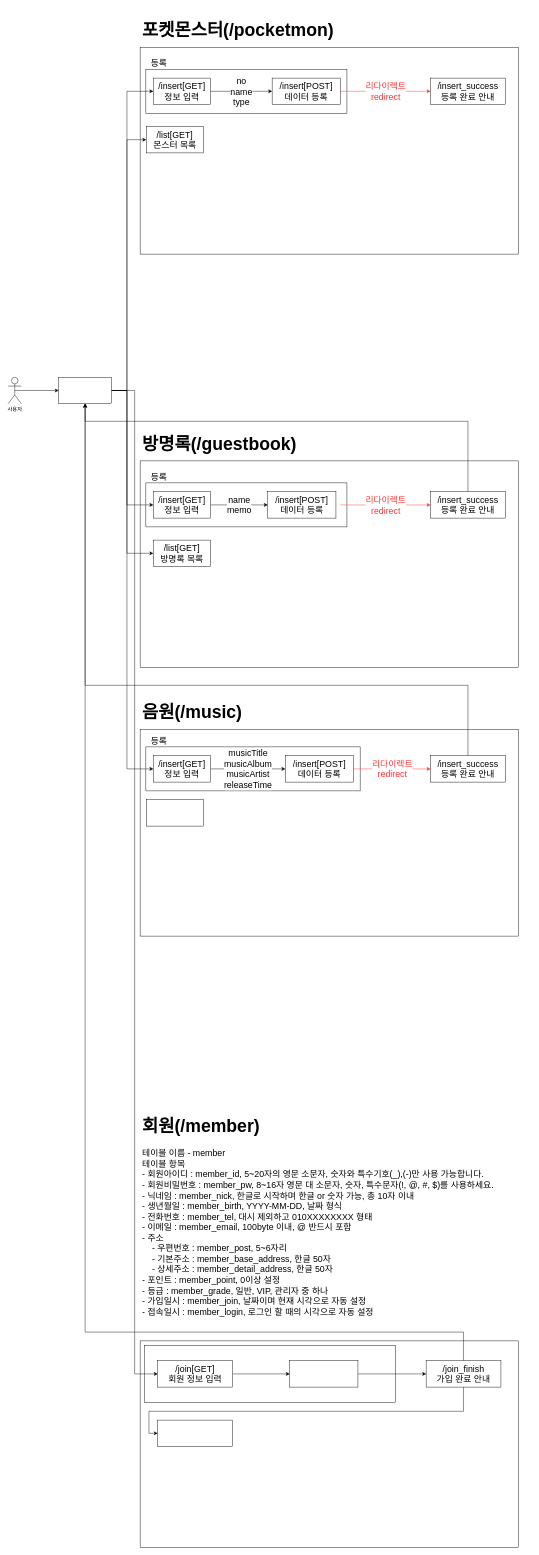
Image size: 539x1555. Some labels were removed from this diagram. Each missing label, with the centre of its shape:
"/ 메인 페이지" goes at (x=85, y=390).
"/join[POST] 회원 가입 처리" goes at (x=323, y=1373).
"/list[GET] 목록 및 검색" goes at (x=175, y=812).
"로그인 기능" goes at (x=195, y=1433).
